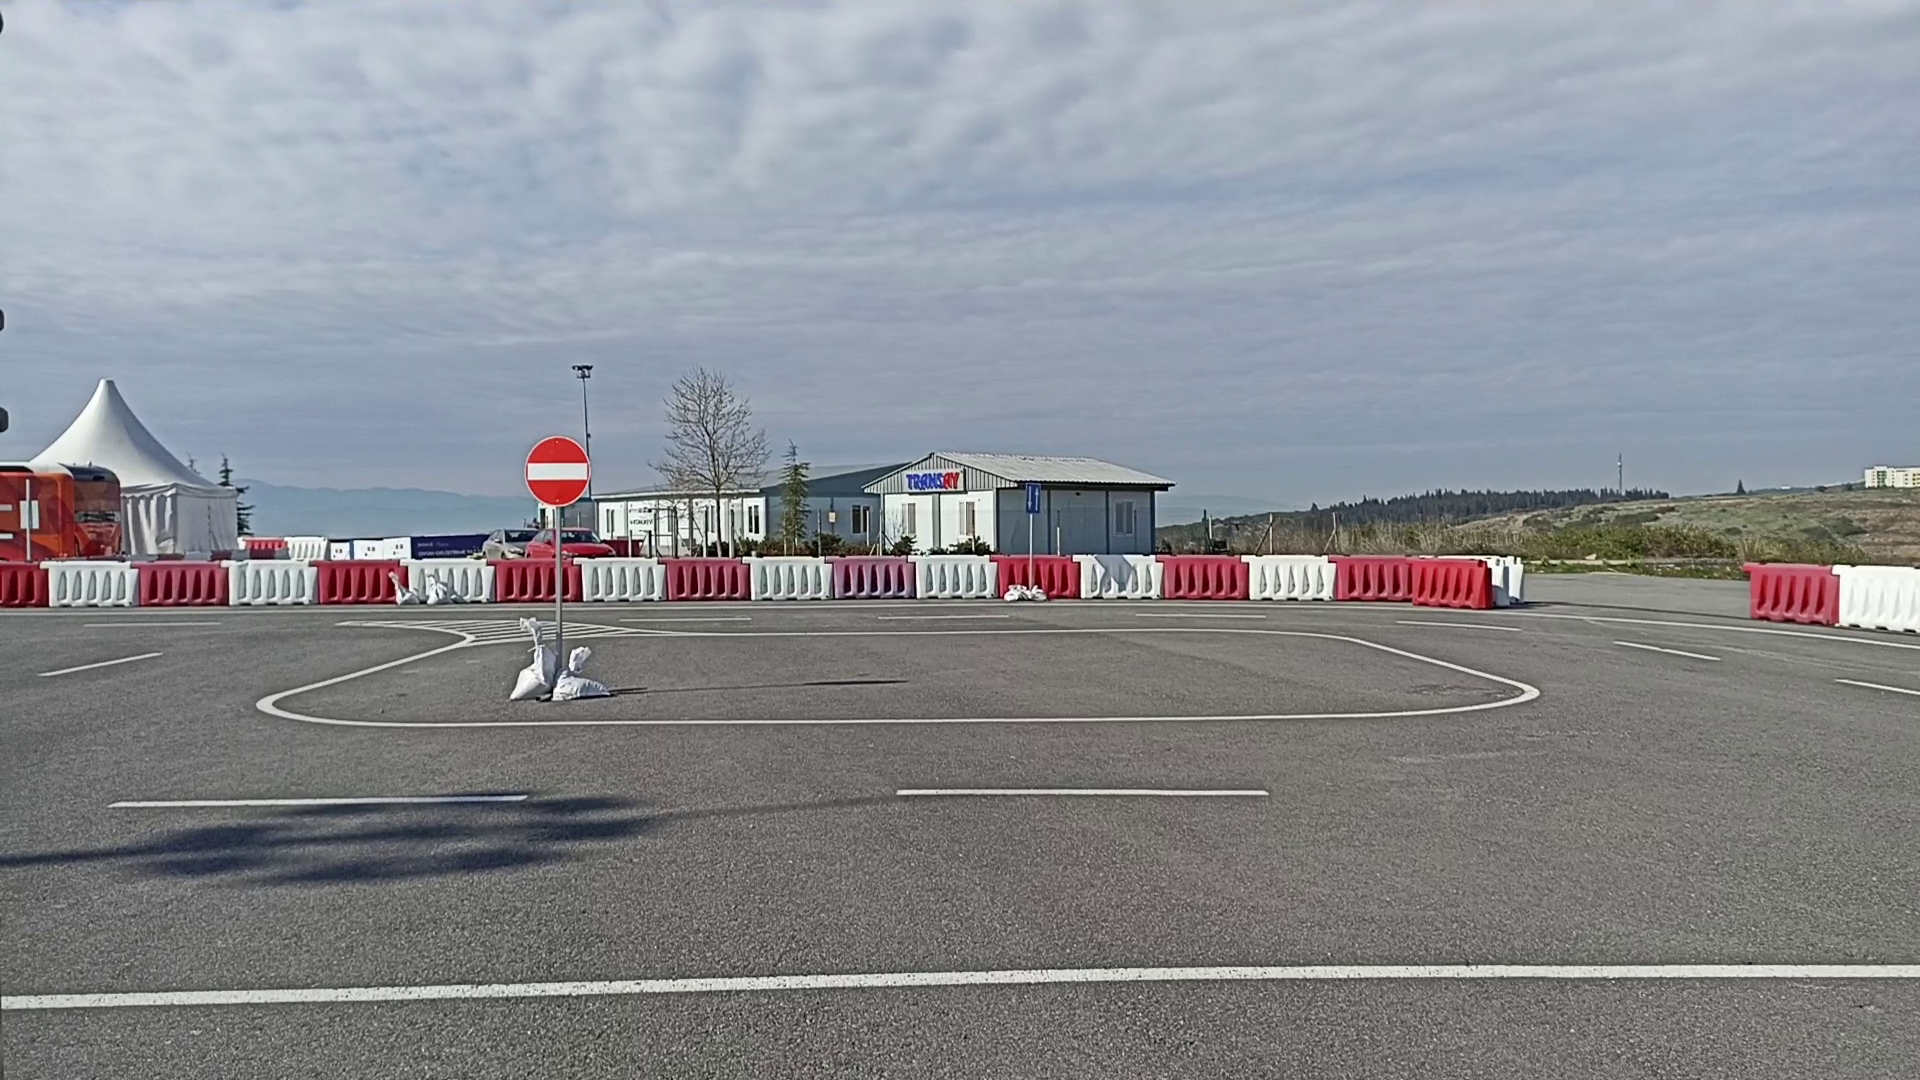noentryway: (524, 435, 592, 506)
